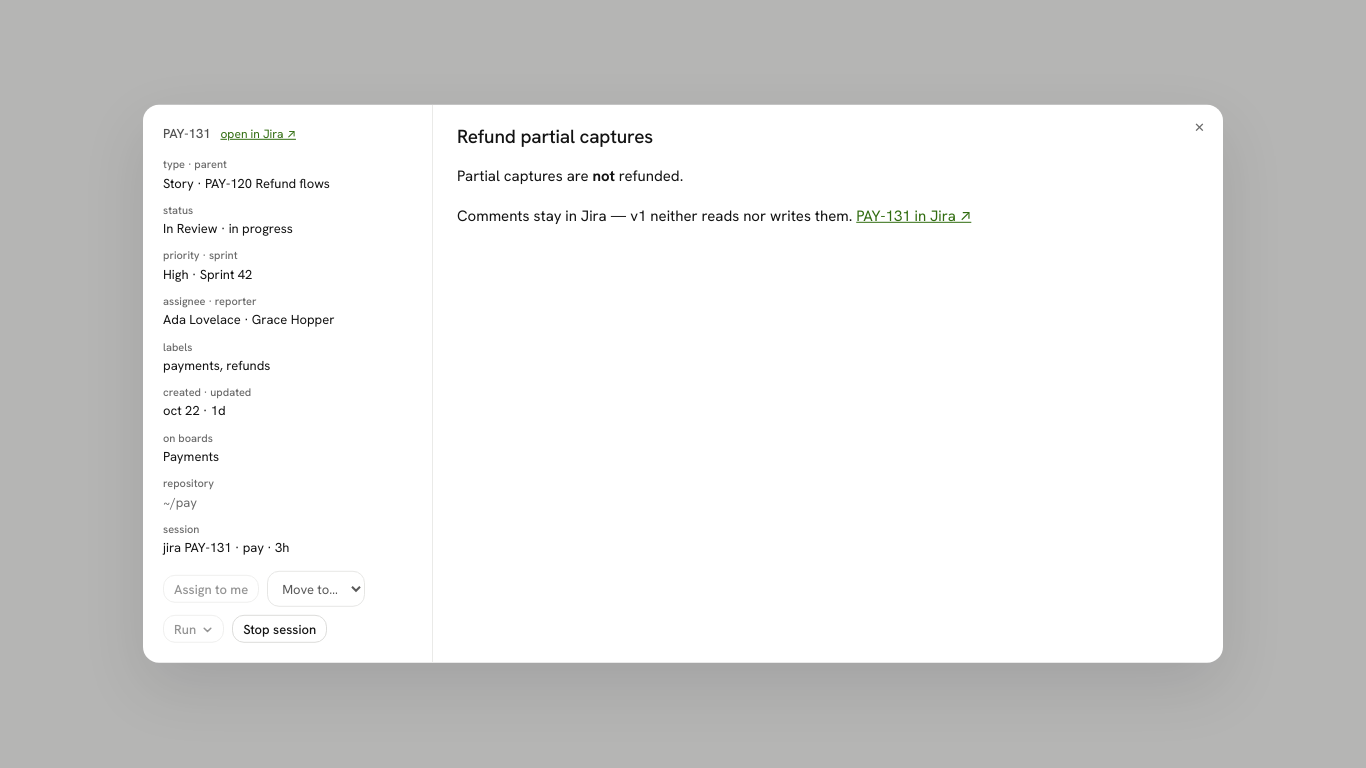
Test case: JiraIssueModal — Stop session (Jira phase 5) › is drawn for a confirmed session with agents on, and asks before it posts
Expected: the text "not" is shown, [592, 166, 615, 186]
Click the button "Stop session". click: [280, 629]
box: [232, 615, 327, 643]
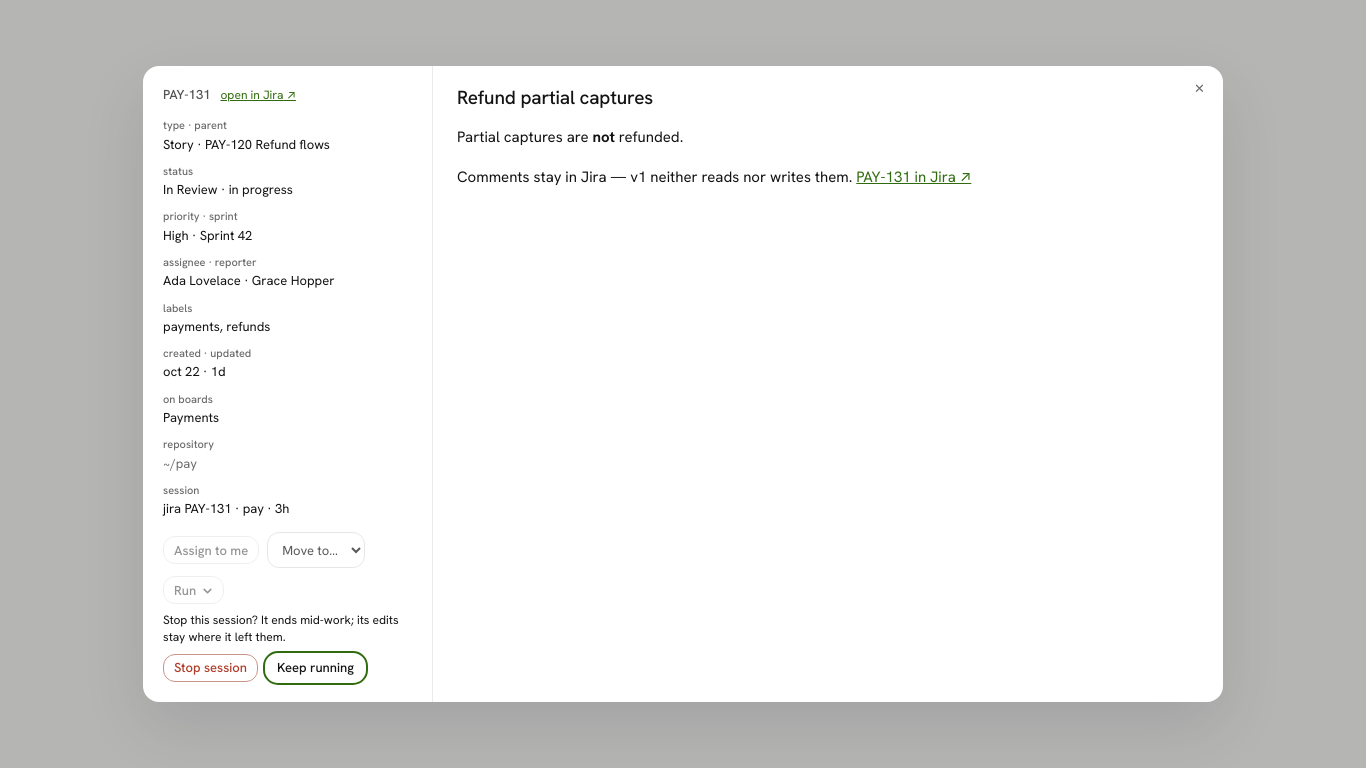
Expected: the element with test id "jira-stop-confirm" is shown, [163, 612, 412, 682]
Click the button with test id "jira-stop-confirm-dismiss". click: [315, 668]
box: [266, 654, 365, 682]
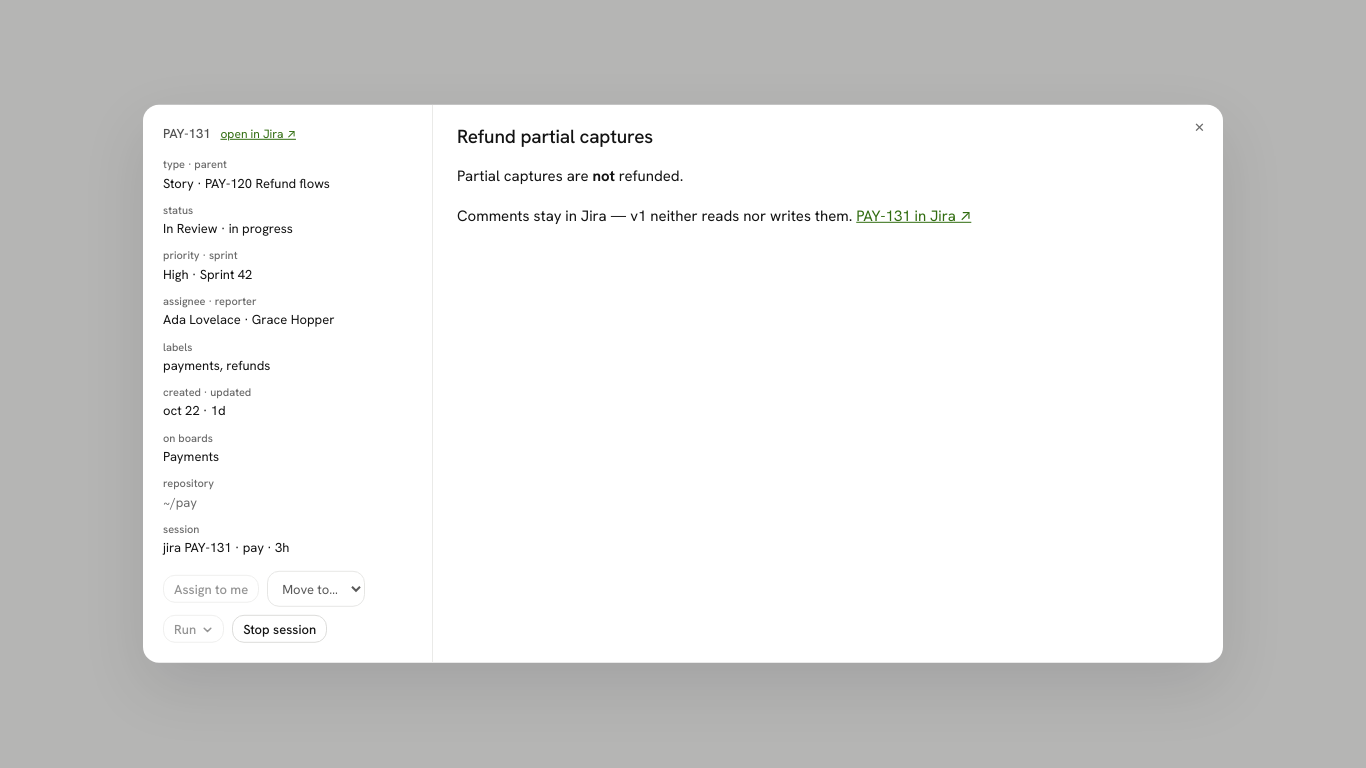
Expected: the button "Stop session" is shown, [232, 615, 327, 643]
Expected: the element with test id "jira-stop-confirm" is gone
